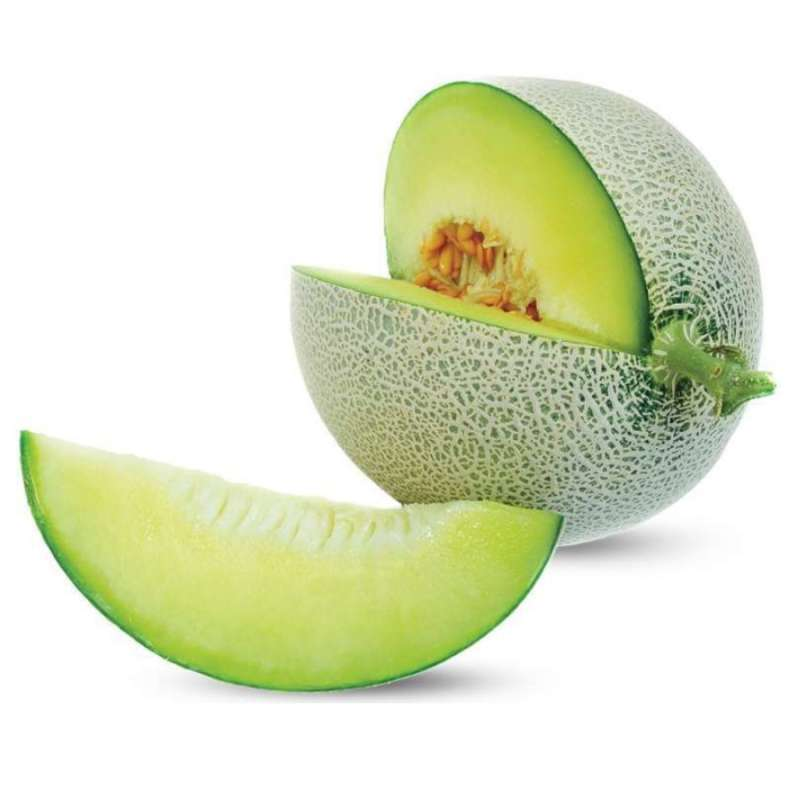Melon: (18, 451, 578, 706)
